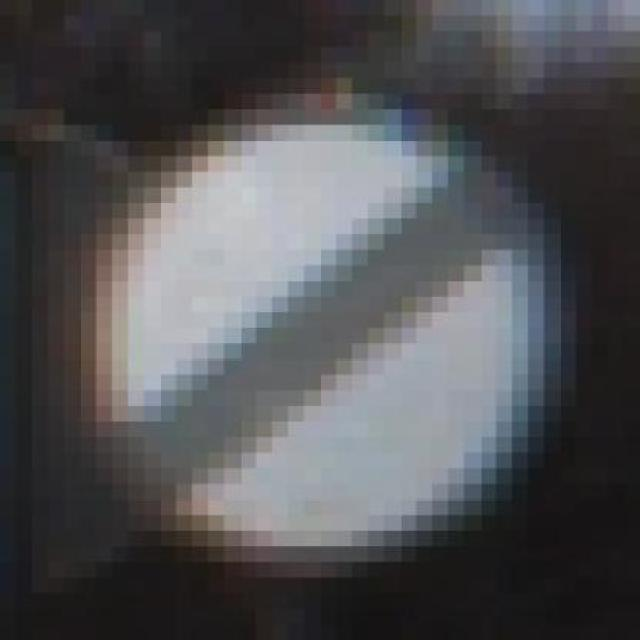End of all speed and passing limits: (65, 78, 560, 578)
